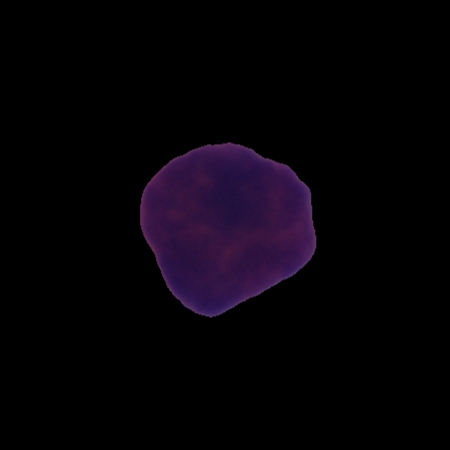ALL: (136, 137, 320, 321)
